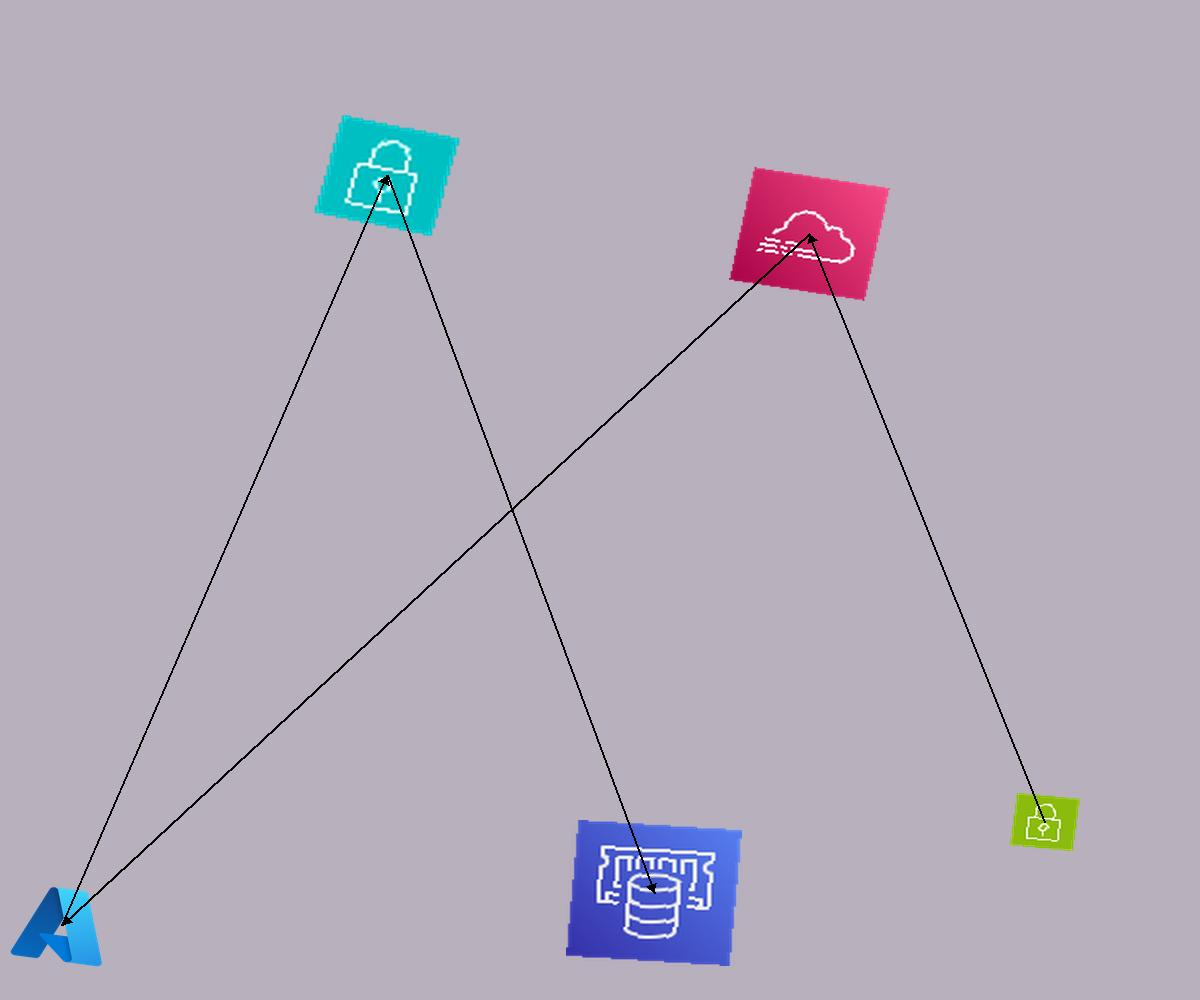AWS-CloudTrail: (729, 167, 890, 301)
AWS-ElastiCache: (566, 820, 742, 966)
AWS-Private-subnet: (312, 113, 462, 238)
AWS-Public-subnet: (1009, 792, 1081, 852)
Azure_services: (5, 877, 120, 973)
